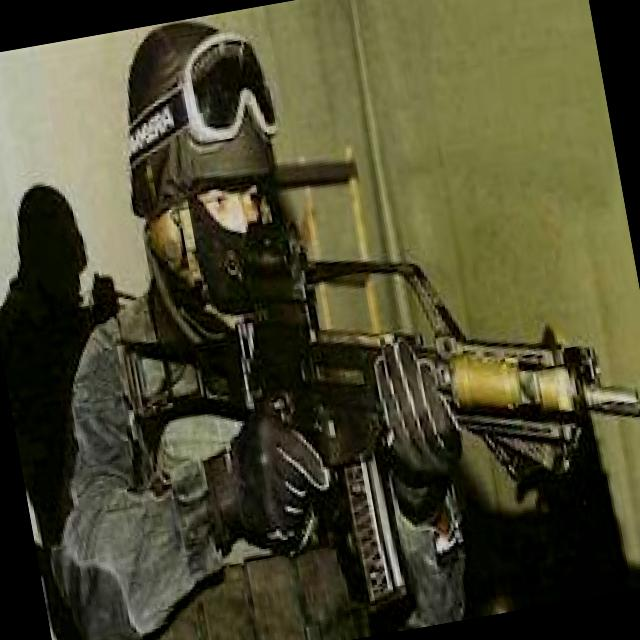long weapon: (162, 171, 639, 543)
